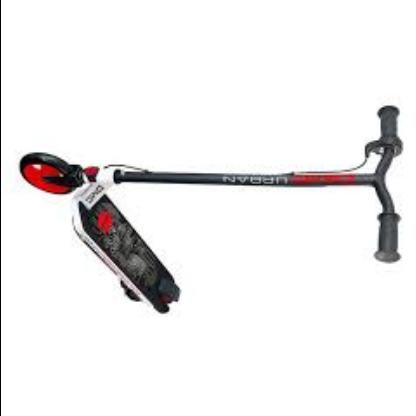bike: (19, 103, 404, 316)
